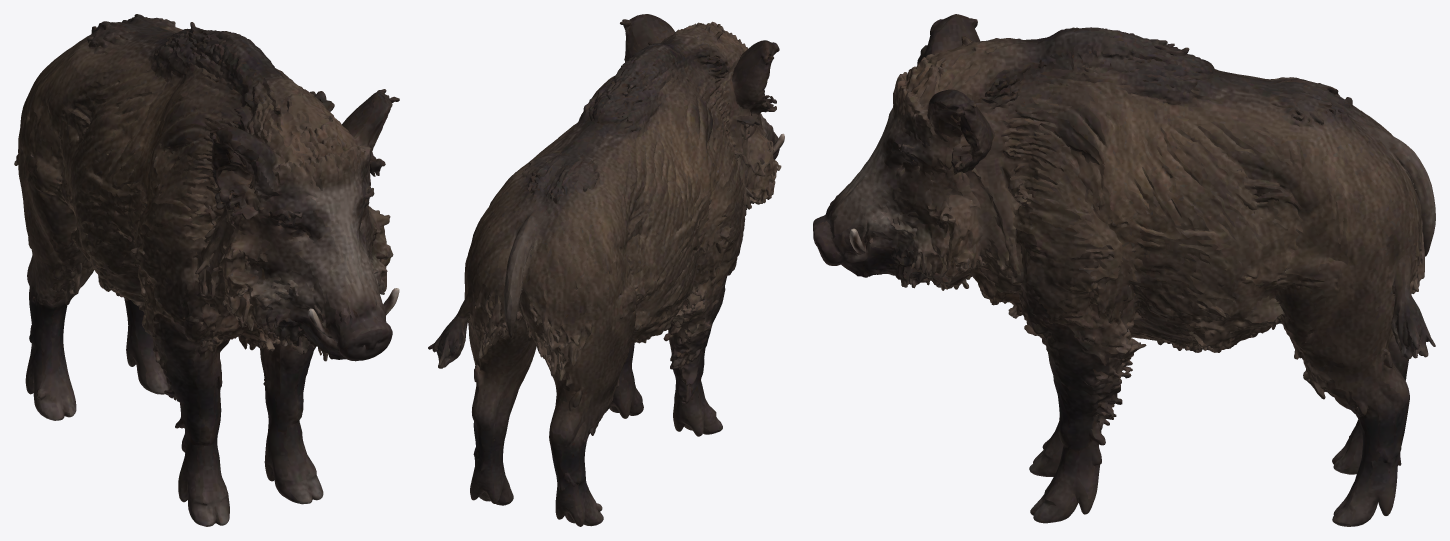
The model's file is wild-boar-v21.glb.
The picture shows the model from 3 angles, left to right: view 1: azimuth 30°, elevation 25°; view 2: azimuth 150°, elevation 25°; view 3: azimuth 270°, elevation 25°; orthographic projection. The views are drawn at different scales.
Visible parts, largest first — view 1: world; view 2: world; view 3: world.
Boxes of the visible parts, left/top/right/bottom form: world: left=14, top=14, right=399, bottom=526; world: left=428, top=14, right=784, bottom=526; world: left=813, top=14, right=1435, bottom=526.
Bounding box in the file's own units: 1.5 × 3.22 × 3.9.
Materials: 1 (1 with a texture image).
